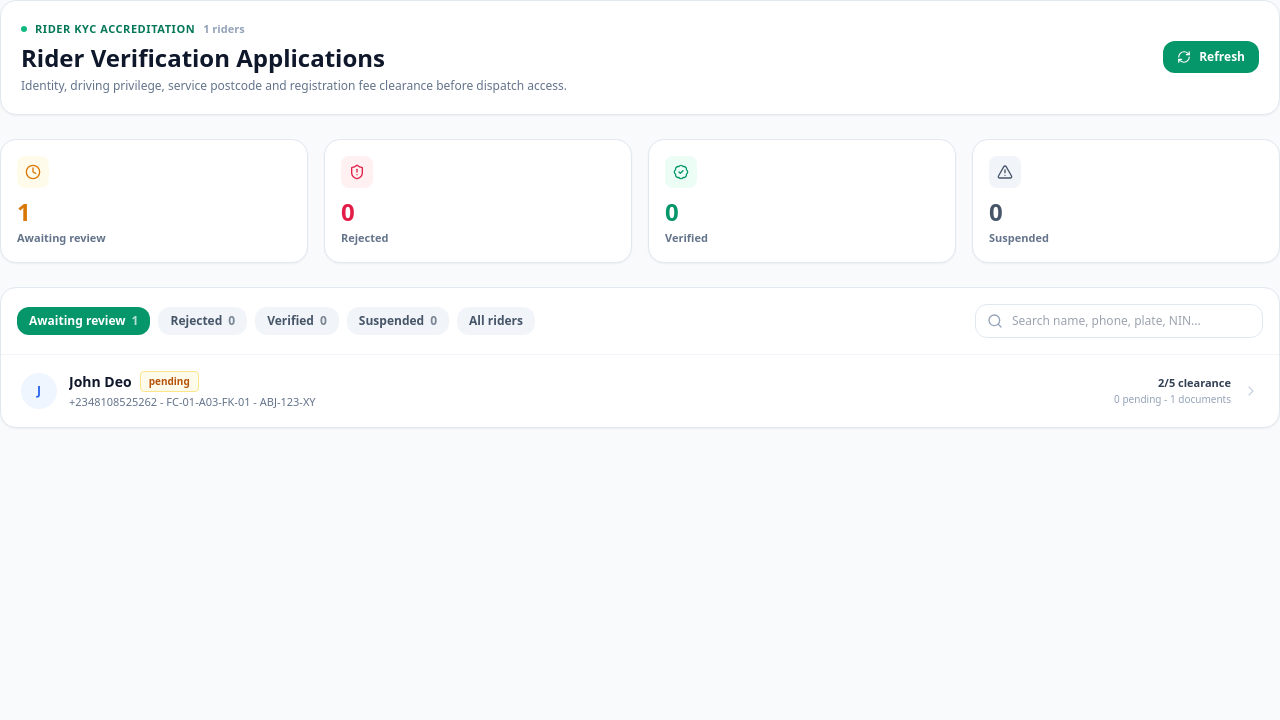
Test: RiderApplicationsPanel › shows the submitted values and withholds clearance without approved evidence
What coordinates should you click on to do the following:
click the text "John Deo"
I would click on:
 (100, 382)
Its box is [69,372,132,392].
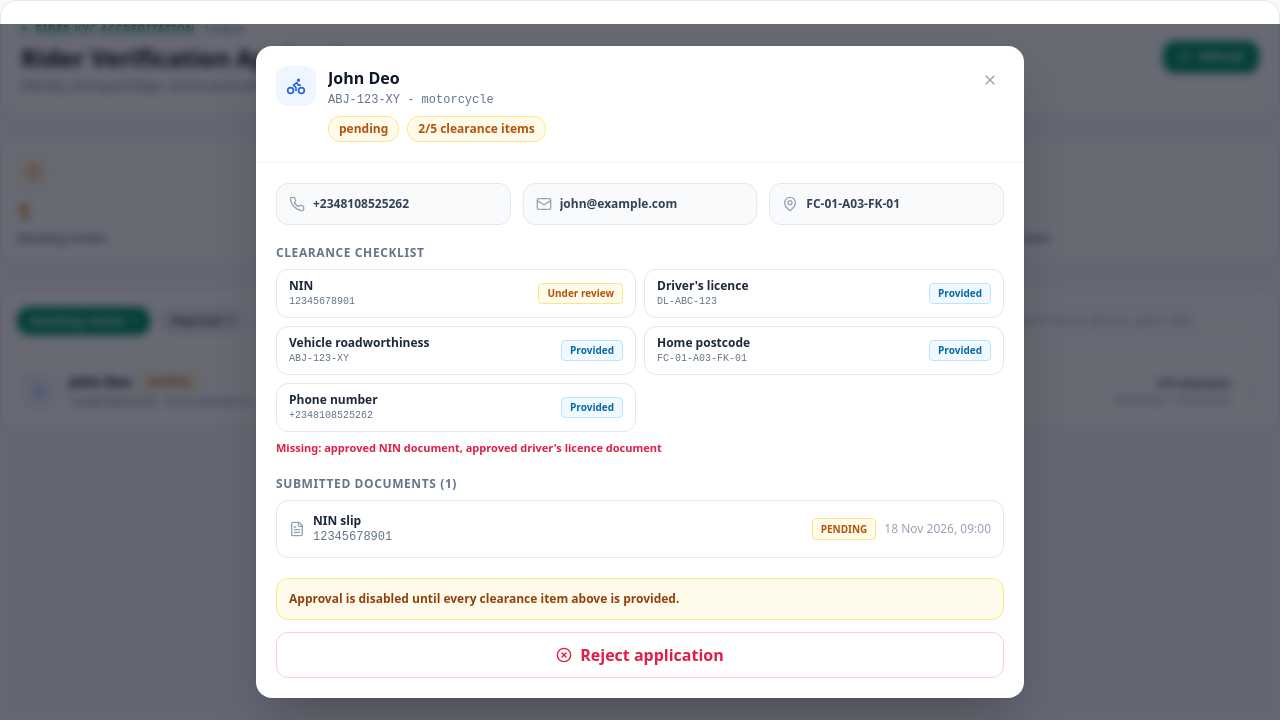
Check: the text "12345678901" in the row of "Under review" is shown, box [289,296,355,307]
Check: the text "DL-ABC-123" is shown, box [657,296,717,307]
Check: the text "Under review" is shown, box [538,283,623,304]
